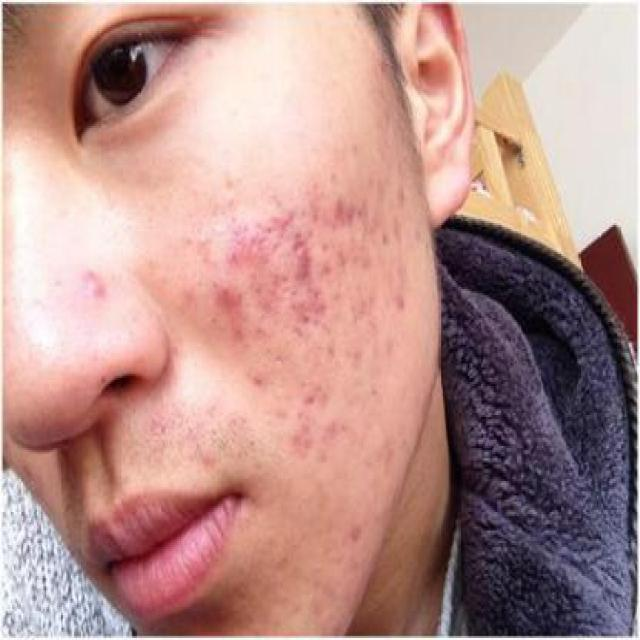dark spot: (286, 235, 322, 287), (331, 188, 366, 223), (302, 378, 331, 413), (384, 285, 416, 314), (244, 363, 270, 392)
papules: (69, 258, 109, 308), (206, 274, 246, 314)
